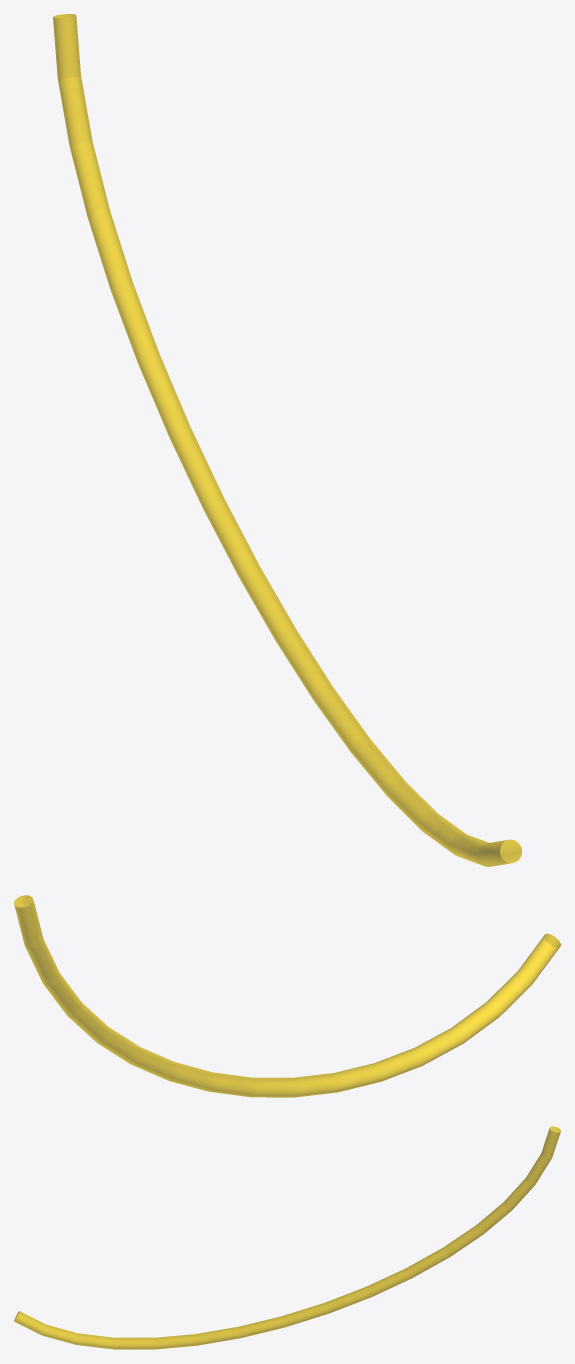
The model's file is Event_17758602_track_68.fbx.
3 renders of one model, top to bottom at view 1: azimuth 30°, elevation 25°; view 2: azimuth 150°, elevation 25°; view 3: azimuth 270°, elevation 25°, orthographic. The views are drawn at different scales.
Parts seen in each view (by area): view 1: Model; view 2: Model; view 3: Model.
Part boxes in pixels (x1,y1,x2,y2): Model: [53, 14, 521, 866]; Model: [14, 895, 560, 1097]; Model: [14, 1126, 560, 1349].
Bounding box in the file's own units: 0.2191 × 0.89 × 1.84.
